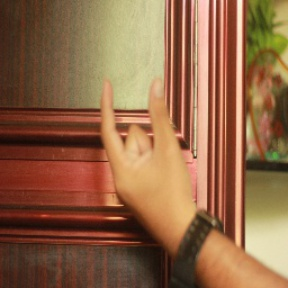U: (93, 69, 193, 204)
